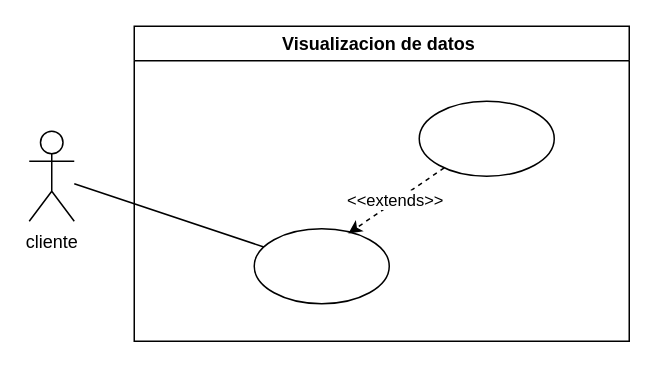
This 656x368 diagram has some shape labels left out. Here are the shapes that lost their labels. From the top down, the centre of each, then its label:
At pixel 486 138: "Carga de archivos en el aplicativo".
At pixel 321 265: "Visualizar datos de seguimiento ocular".
